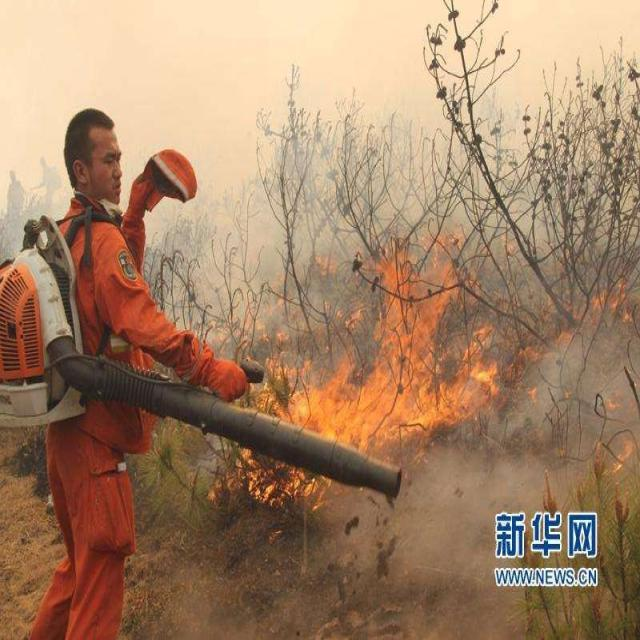fire: (249, 235, 579, 458), (241, 451, 319, 507)
